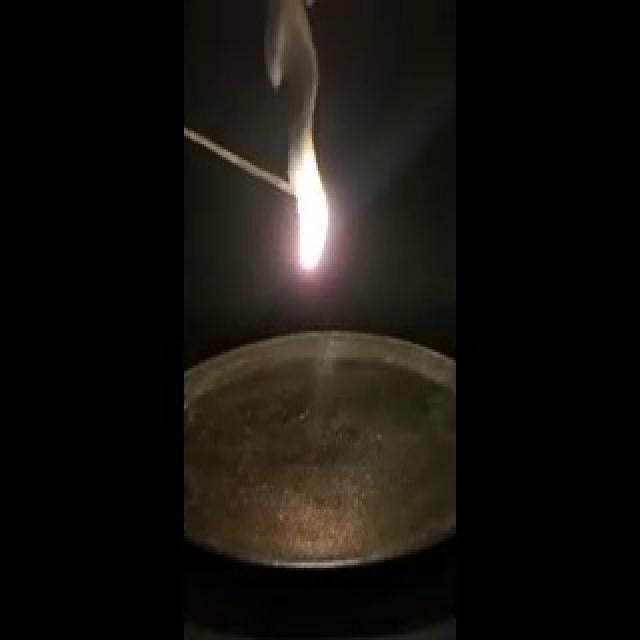Fire: (278, 58, 348, 296)
